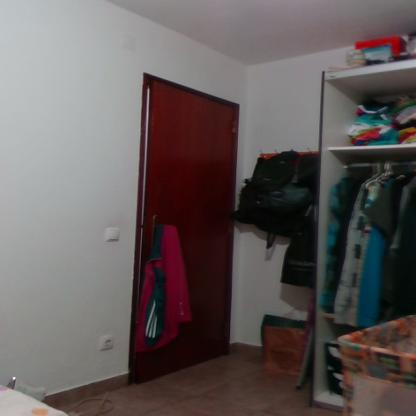door: (142, 80, 224, 380)
hinged: (226, 218, 232, 236), (223, 322, 229, 338), (232, 120, 238, 134)
